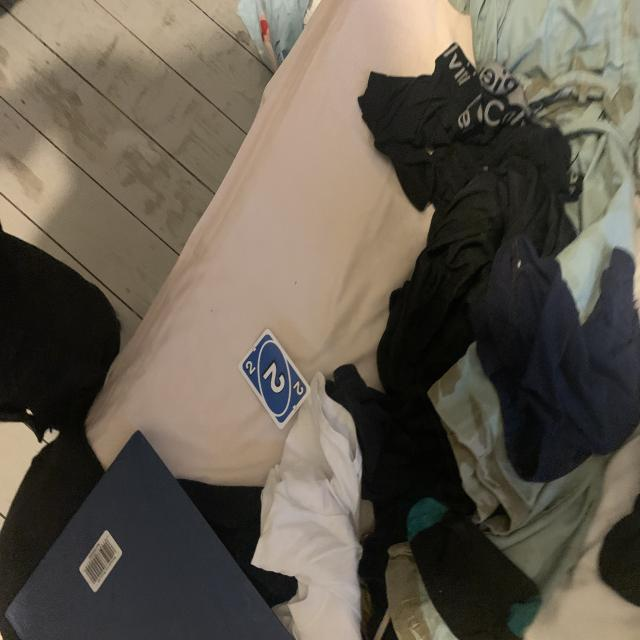lblue-2: (243, 357, 258, 378)
